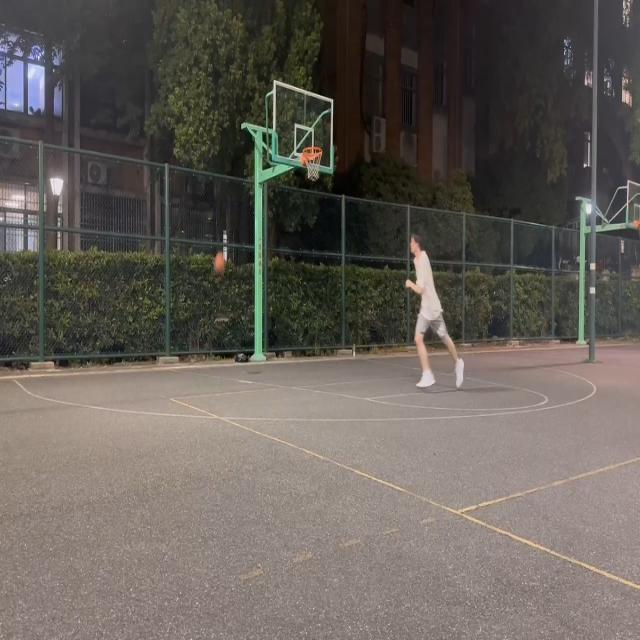basketball: (302, 146, 322, 181)
rim: (214, 252, 226, 271)
